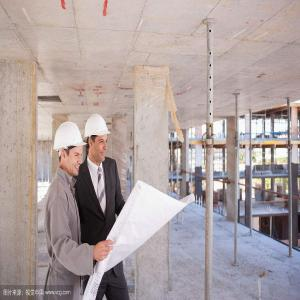white: (54, 120, 85, 178), (85, 114, 111, 167)
